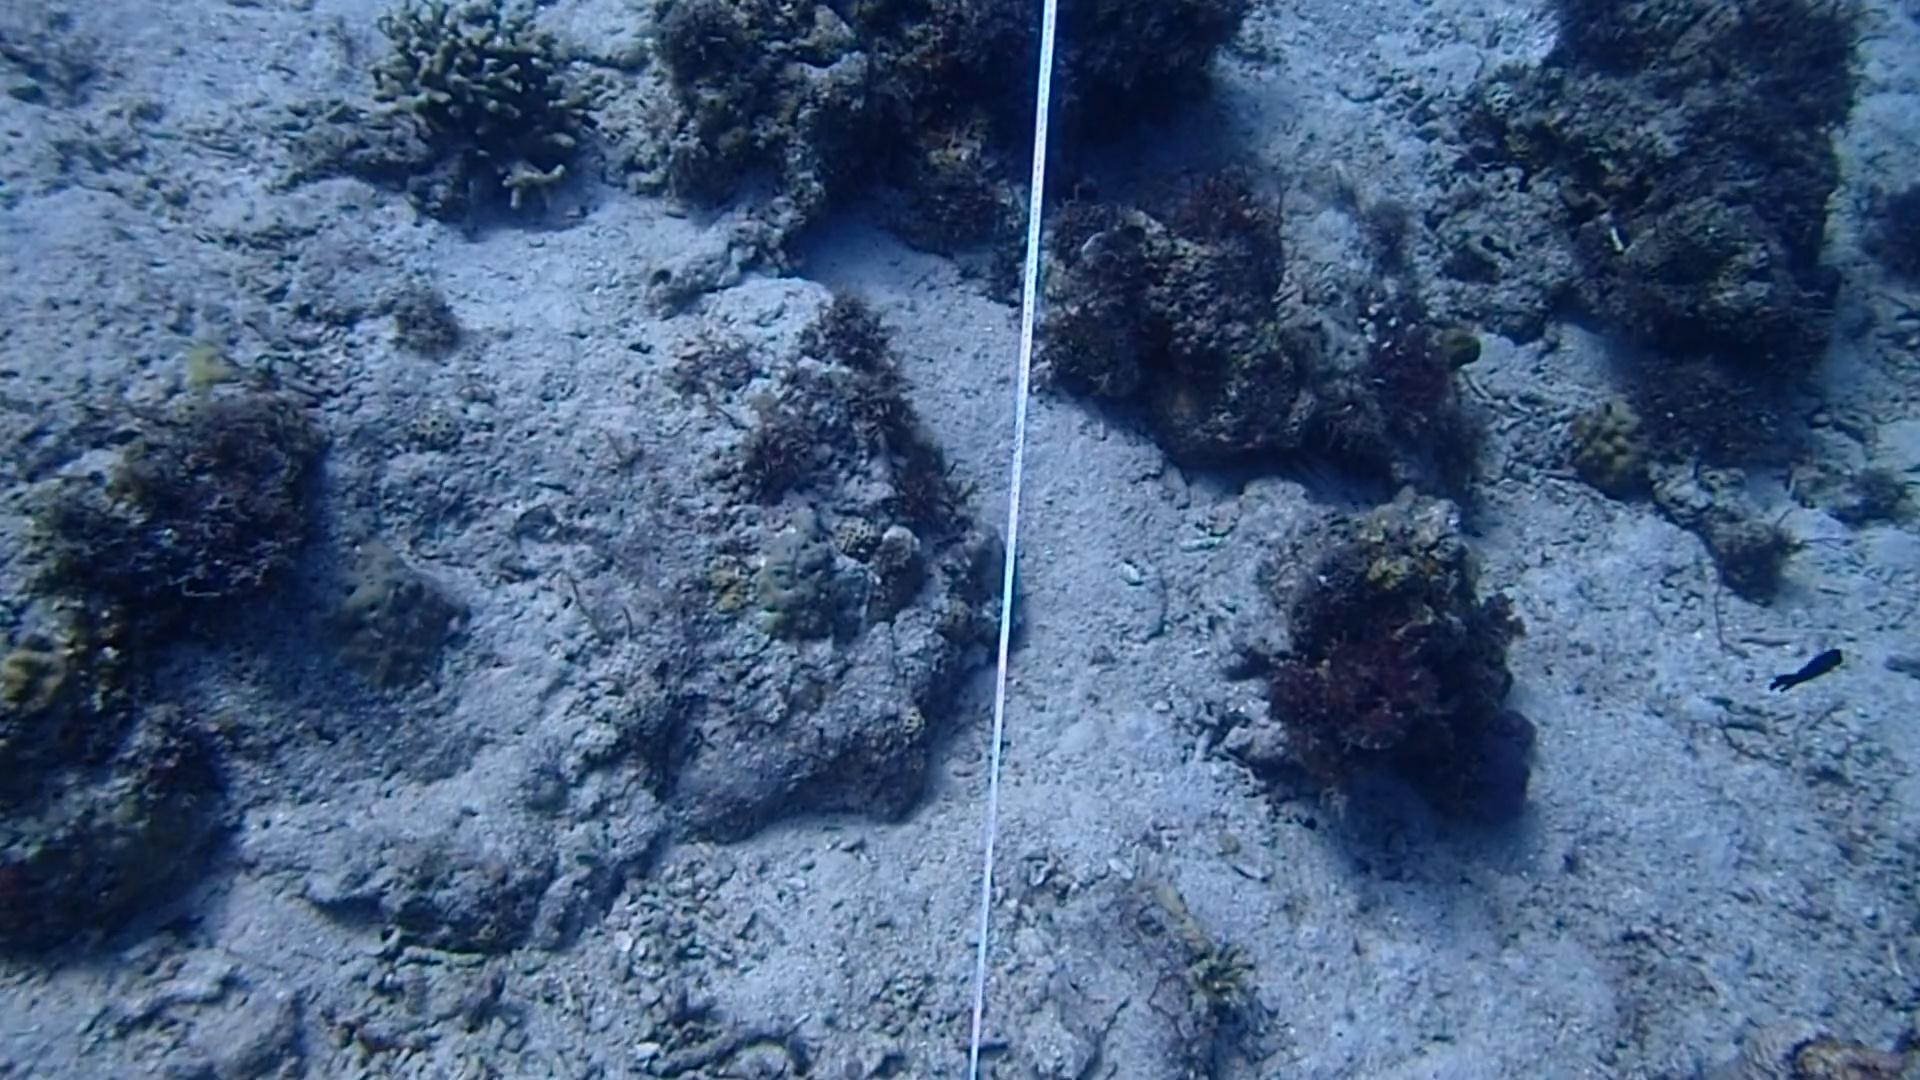Dark Fish: (1754, 629, 1857, 711)
